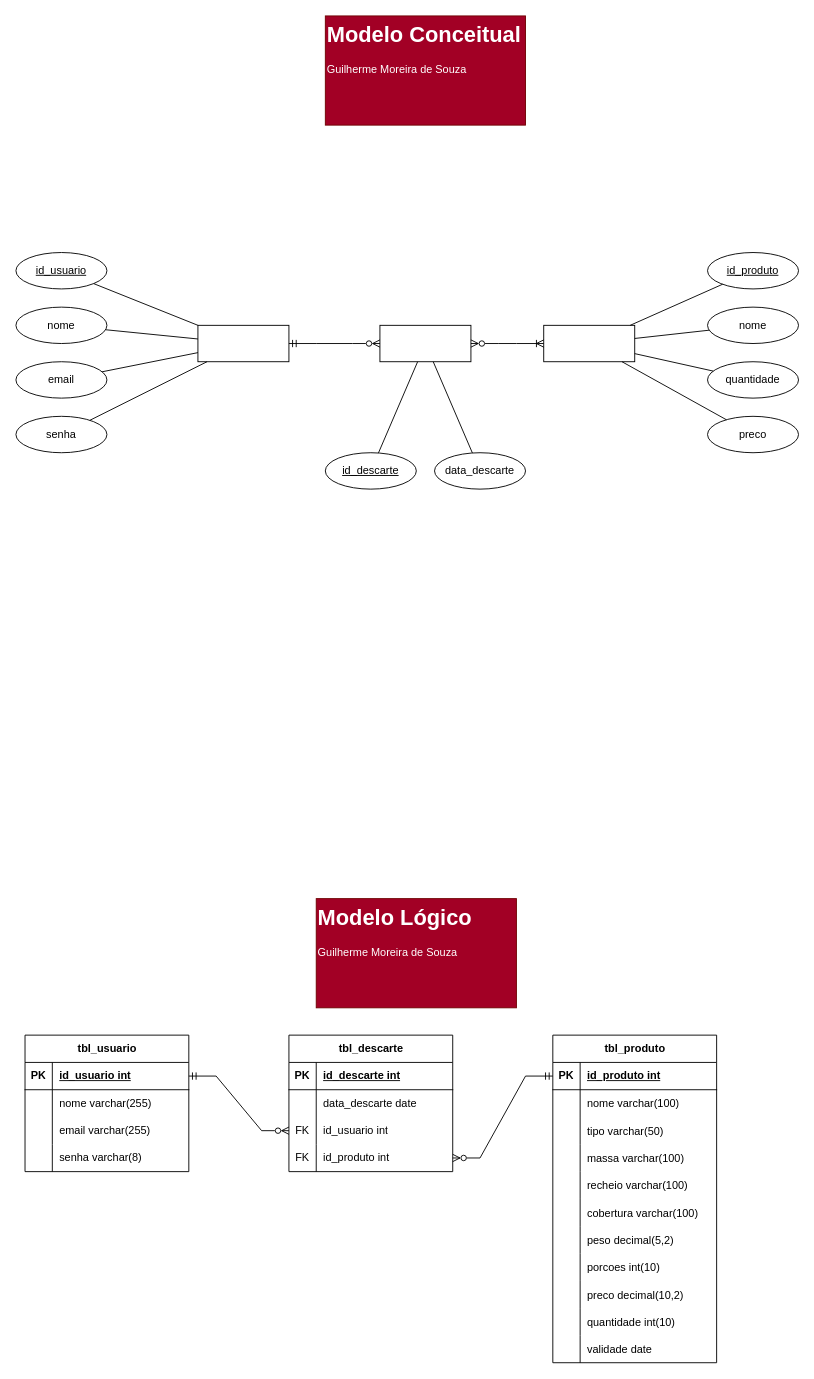
The diagram is 814 pixels wide and 1379 high, and some of its shapes have lost their labels. Each missing label, with the centre of its shape:
"descarte" belongs at (425,343).
"produto" belongs at (589,343).
"usuario" belongs at (243,343).
